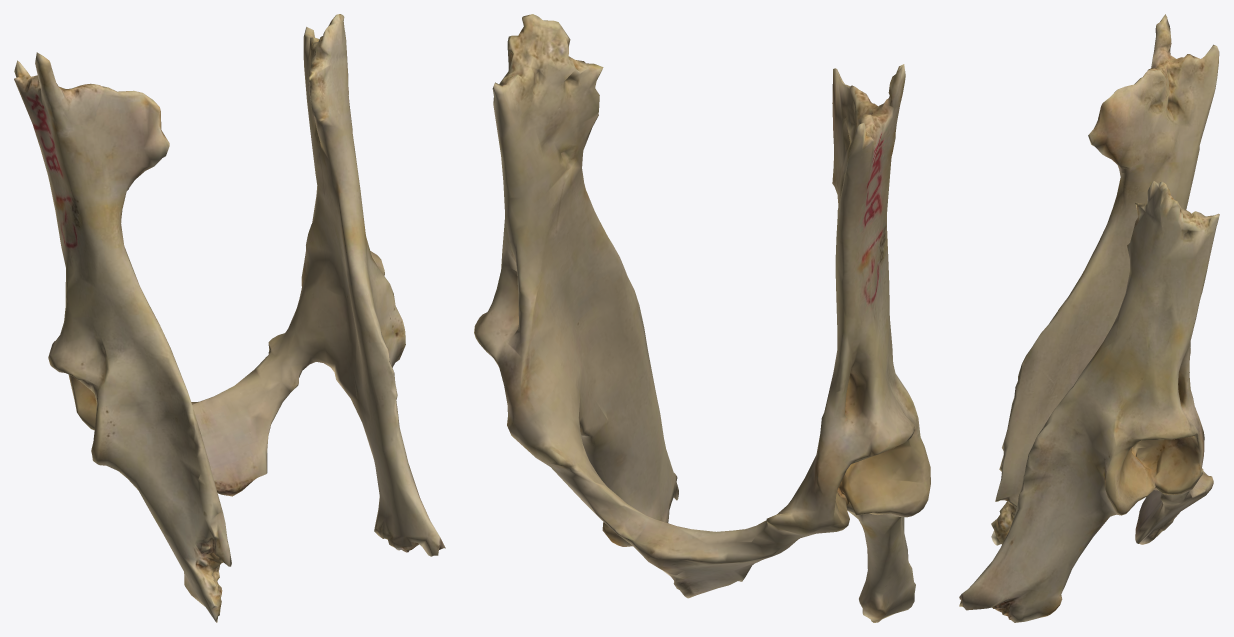
File: pelvis.glb
3 renders of one model, left to right at view 1: azimuth 30°, elevation 25°; view 2: azimuth 150°, elevation 25°; view 3: azimuth 270°, elevation 25°, orthographic. The views are drawn at different scales.
Bounding box in the file's own units: 0.1109 × 0.1641 × 0.0788.
Materials: 1 (1 with a texture image).
